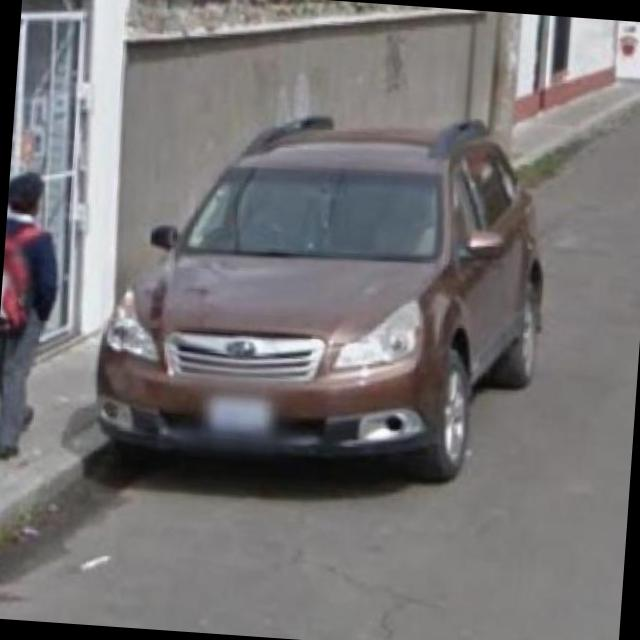car: (94, 114, 548, 508)
